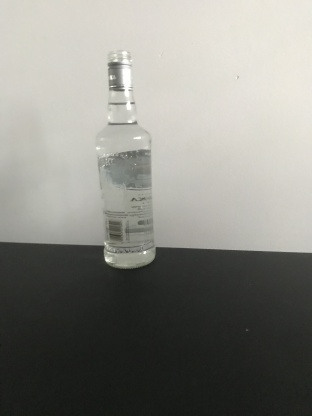nakretka: (105, 47, 134, 91)
